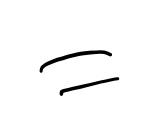eqv: (40, 50, 119, 97)
